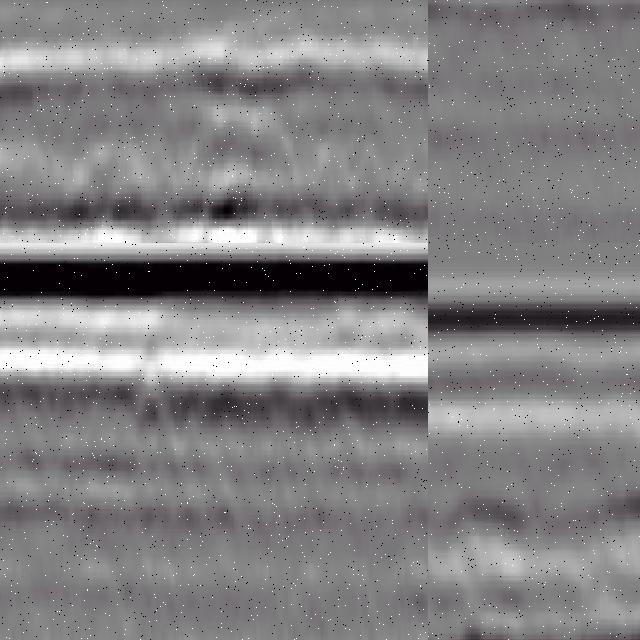loose: (429, 454, 520, 640)
